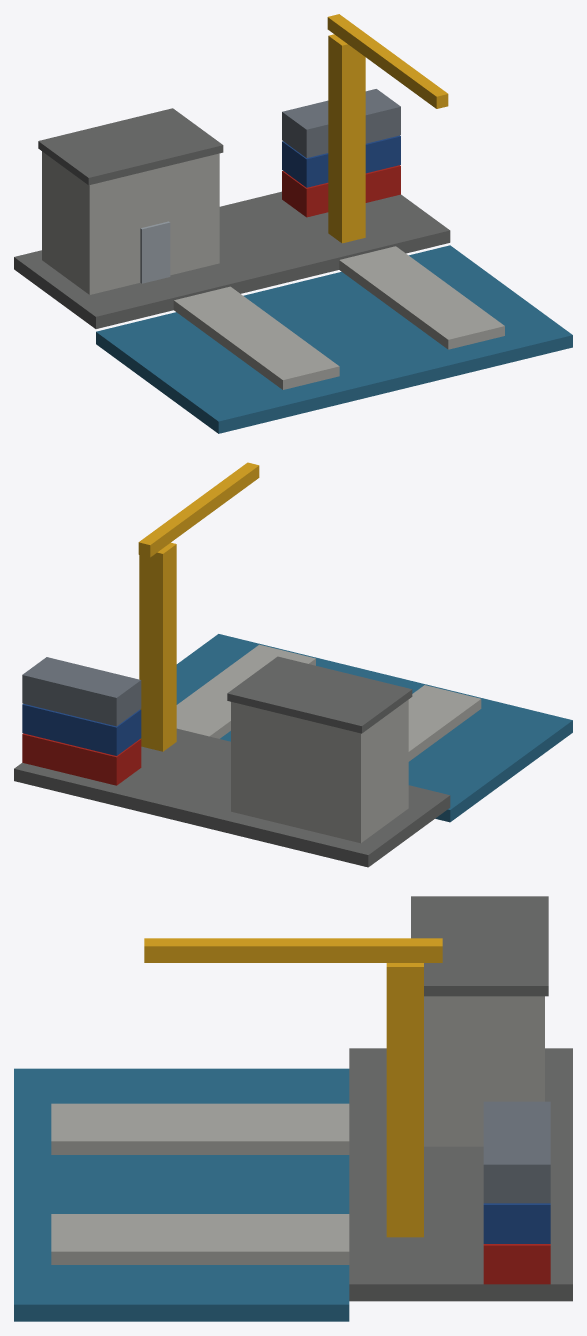
File: bld_special_port_a06_lod2.glb
3 renders of one model, top to bottom at view 1: azimuth 30°, elevation 25°; view 2: azimuth 150°, elevation 25°; view 3: azimuth 270°, elevation 25°, orthographic. The views are drawn at different scales.
Parts seen in each view (by area): view 1: body, crane; view 2: body, crane; view 3: body, crane.
Part boxes in pixels (x1,y1,x2,y2): body: [14, 89, 572, 433]; crane: [327, 14, 448, 243]; body: [14, 634, 572, 867]; crane: [138, 462, 259, 751]; body: [14, 896, 572, 1321]; crane: [144, 938, 442, 1237].
Bounding box in the file's own units: 15 × 9.6 × 15.
